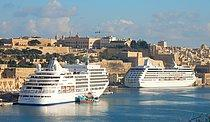Ship: (18, 56, 111, 107), (122, 59, 202, 93)
